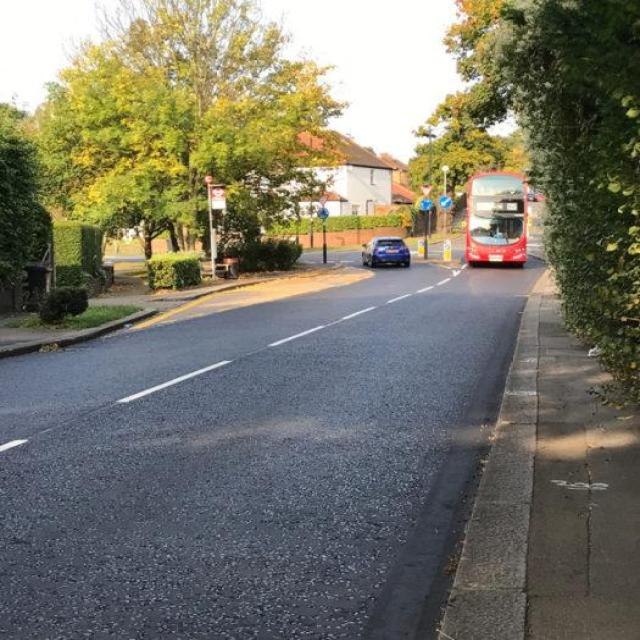car: (460, 160, 540, 275), (350, 234, 425, 274)
